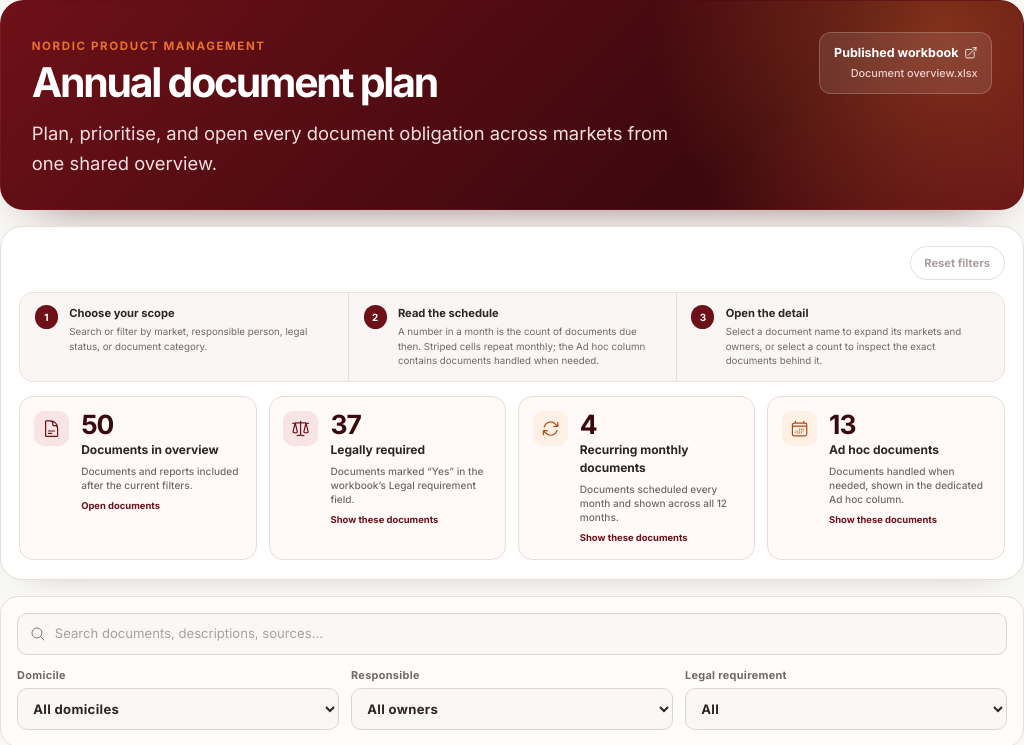
Scenario: AnnualPlanContent › clears active filters from the empty state
The width and height of the screenshot is (1024, 745).
Type "not-a-document" into the search field named "Search document text" at x=512, y=634, box [17,612,1007,654]
(page scrolled)
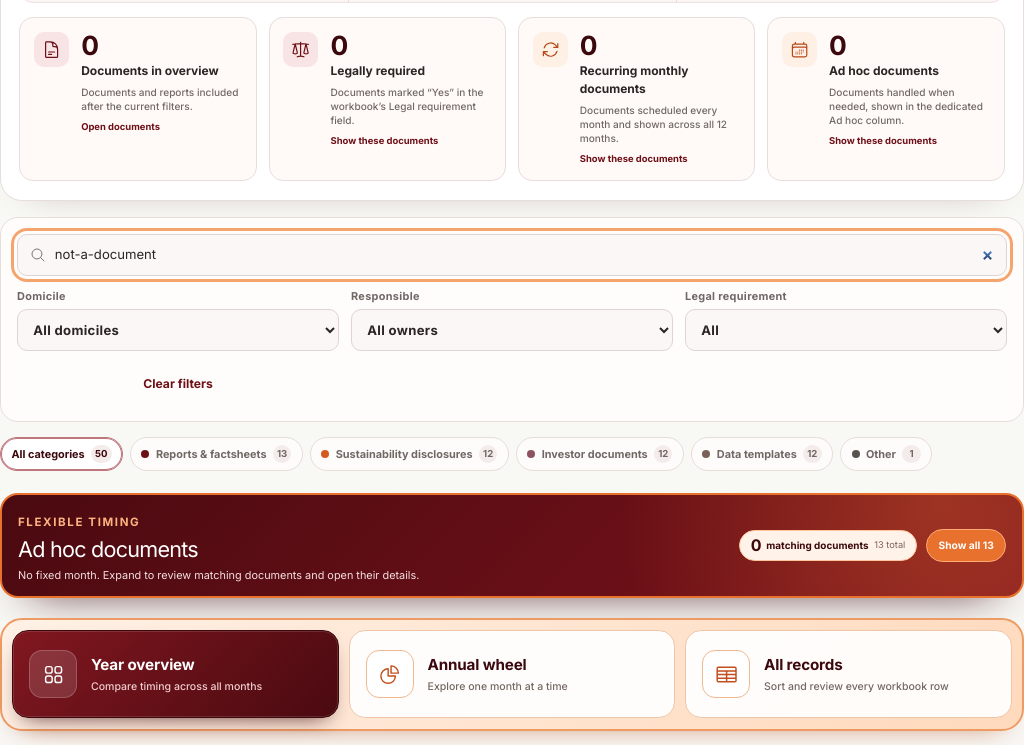
Click the button "Clear filters" at x=178, y=384, box [17,363,339,405]
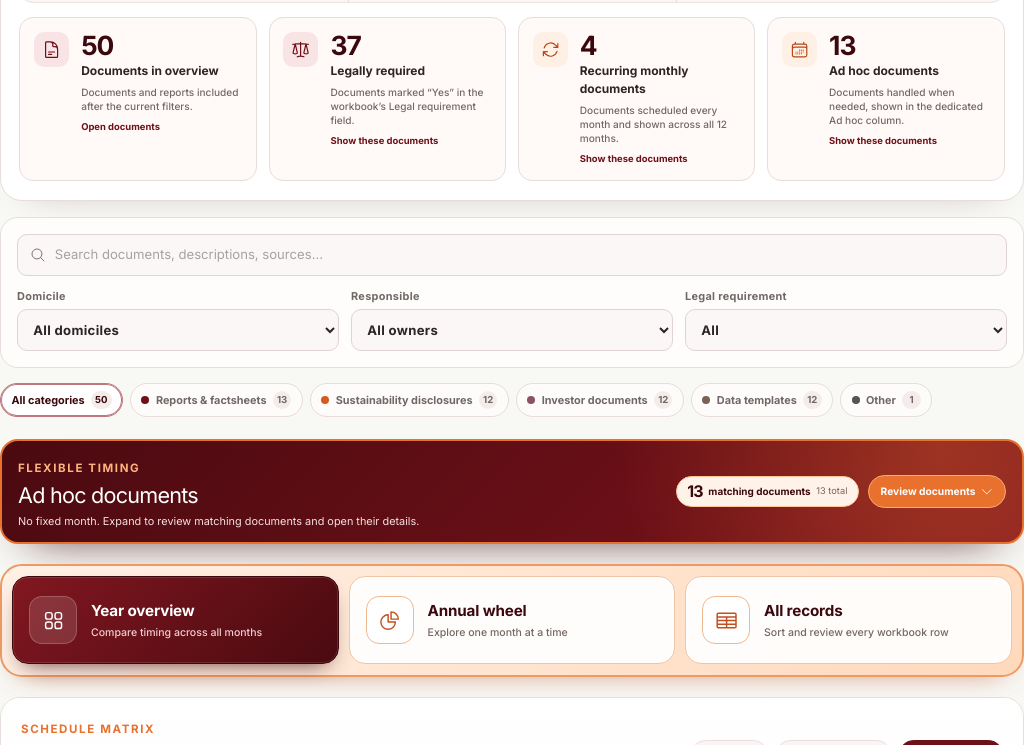
Now the text with test id "matching-count" reads "50", box [81,29,113,61]
